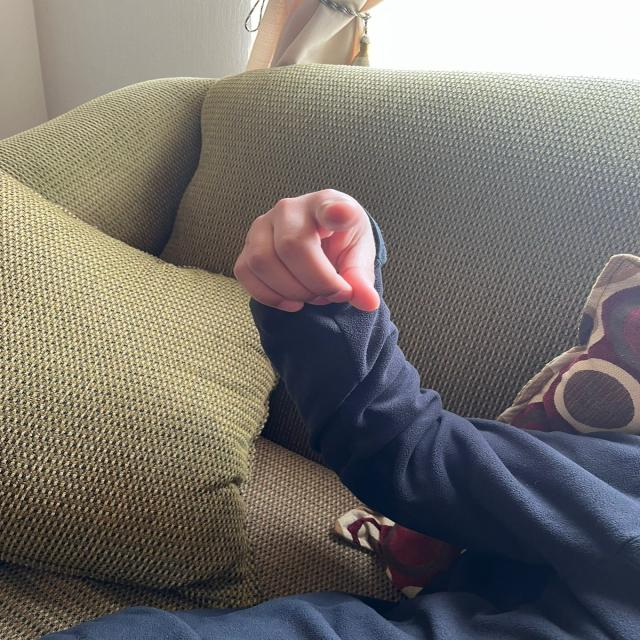X: (232, 180, 396, 325)
